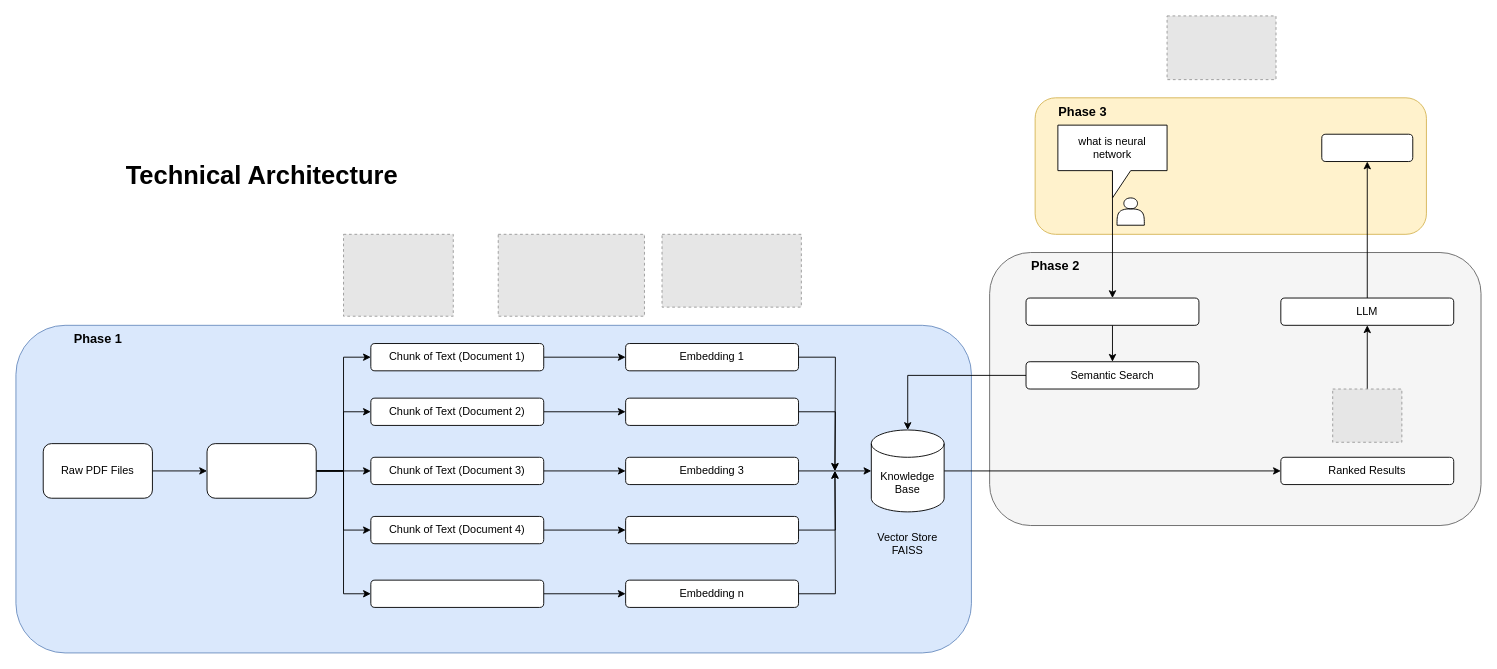
Some shapes in this 1497 by 669 pixel diagram are drawn without their labels. Grey dashed boxes stand in for pictures. The centre of each missing label's shape, as x and y in pixels:
Answer: the point at 1367,147
Chunk of Text (Document n): the point at 457,593
Embedding 2: the point at 712,411
Embedding 4: the point at 712,530
Knowledge source (Extracted Data): the point at 261,470
Question Embdedding: the point at 1112,311
